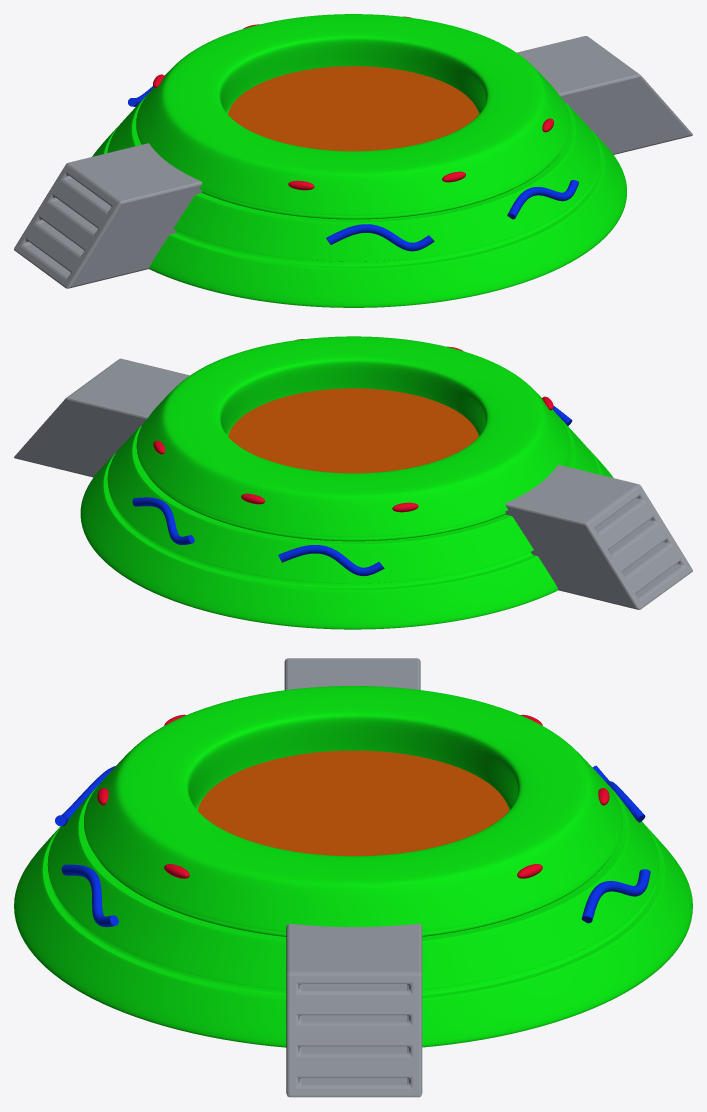
The model's file is pad.fbx.
3 renders of one model, top to bottom at view 1: azimuth 30°, elevation 25°; view 2: azimuth 150°, elevation 25°; view 3: azimuth 270°, elevation 25°, orthographic. The views are drawn at different scales.
Visible parts, largest first — view 1: Cylinder.001; view 2: Cylinder.001; view 3: Cylinder.001.
Boxes of the visible parts, bbox=[...] form: Cylinder.001: bbox=[14, 14, 692, 307]; Cylinder.001: bbox=[14, 336, 692, 629]; Cylinder.001: bbox=[14, 658, 692, 1097].
Size of the model in its own units: 649 by 99.91 by 490.
